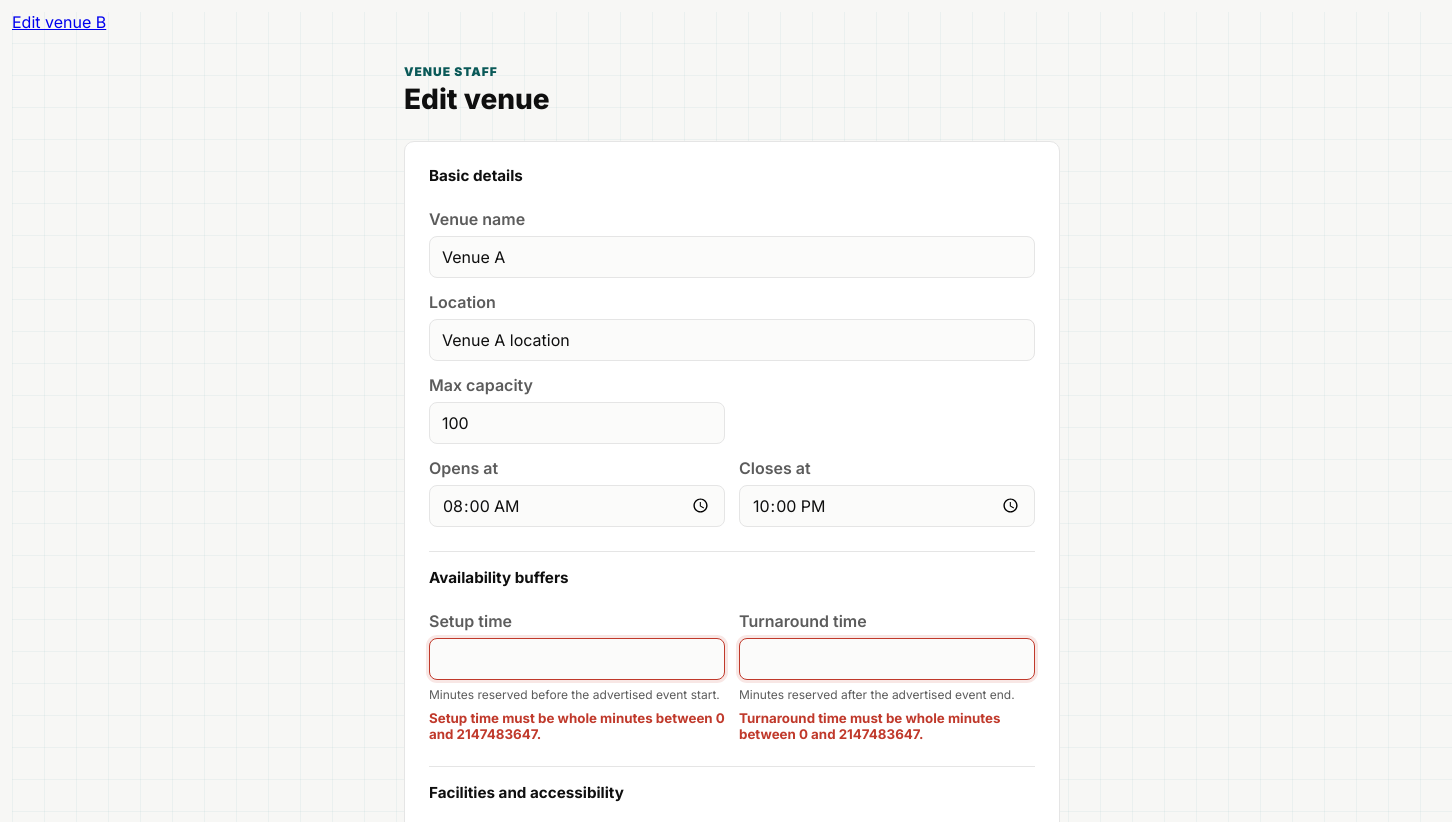
Test: venue A's values are not shown under venue B's URL while B loads
Expected: the field labelled "Venue name" holds "Venue A", [429,236,1035,278]
Click the link "Edit venue B" at (59,22), box [12,12,106,32]
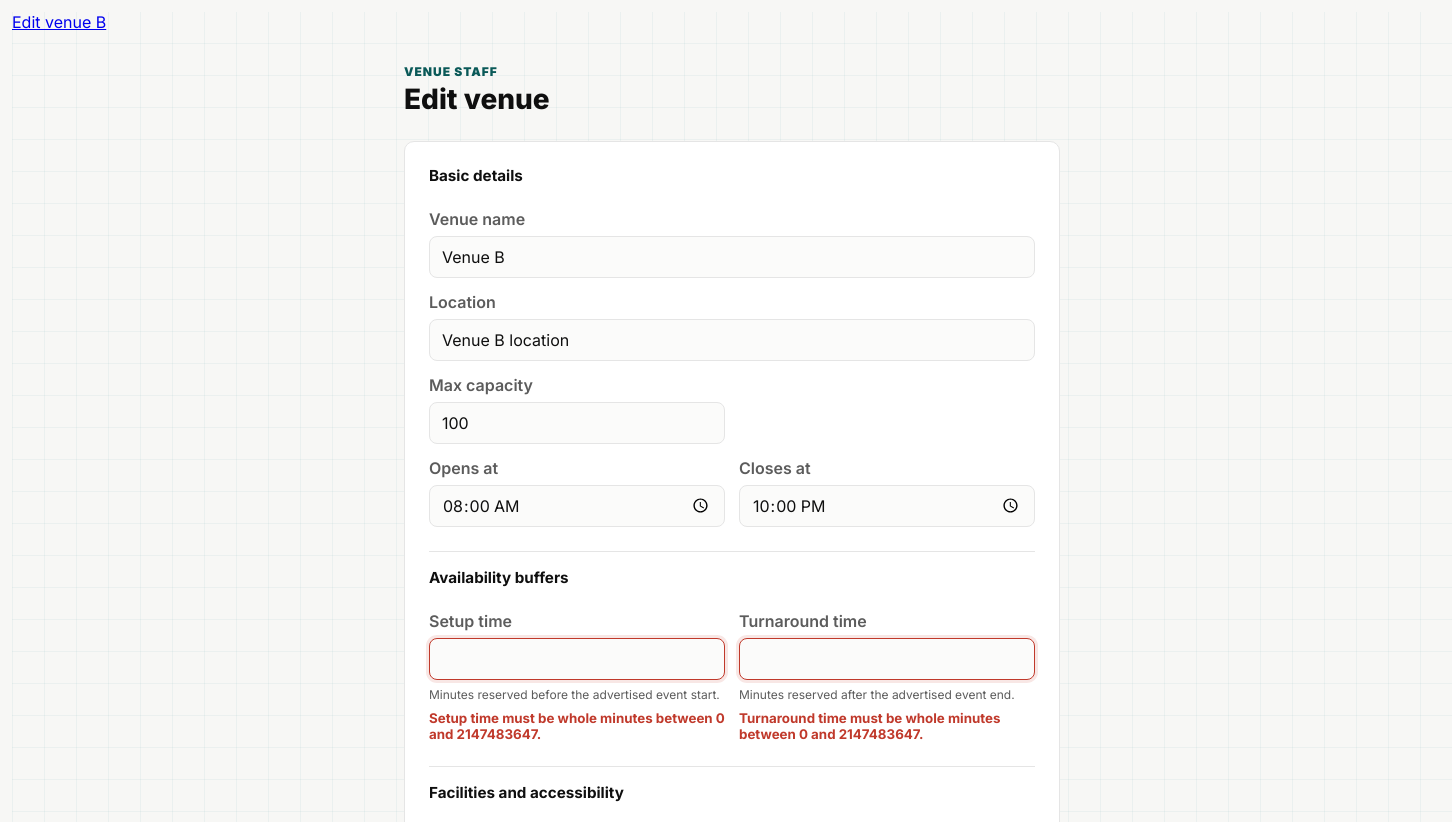
Expected: the field showing "Venue A" is not shown
Expected: the field labelled "Venue name" holds "Venue B", [429,236,1035,278]
